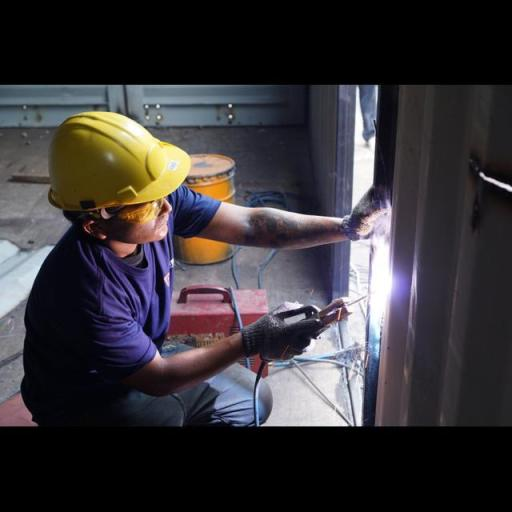Person: (18, 80, 394, 434)
gloves: (235, 302, 330, 368), (336, 180, 398, 248)
goggles: (78, 198, 197, 222)
helmet: (42, 103, 196, 215)
